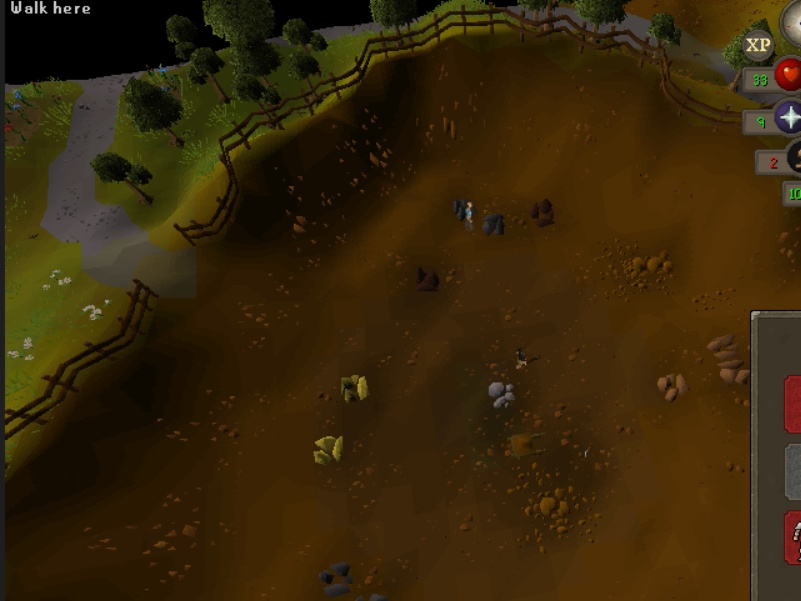copper: (654, 365, 694, 401), (705, 326, 745, 362), (716, 354, 756, 390)
gold: (336, 372, 376, 406), (309, 430, 349, 464)
iron: (528, 194, 560, 232), (410, 256, 442, 294)
